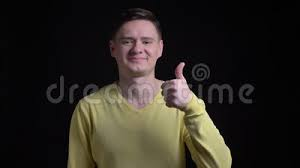white_male: (116, 18, 176, 82)
